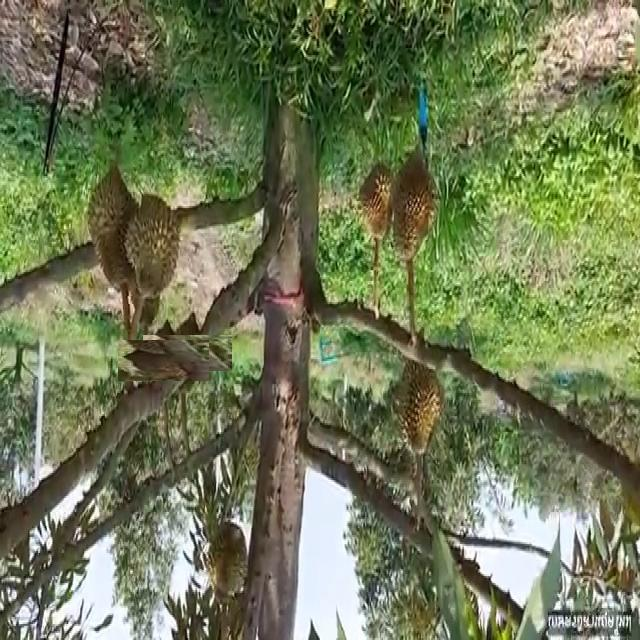durian: (86, 158, 151, 296), (124, 186, 186, 304), (388, 144, 441, 270), (393, 352, 447, 462), (130, 327, 197, 394), (202, 516, 251, 604), (156, 321, 218, 384)
